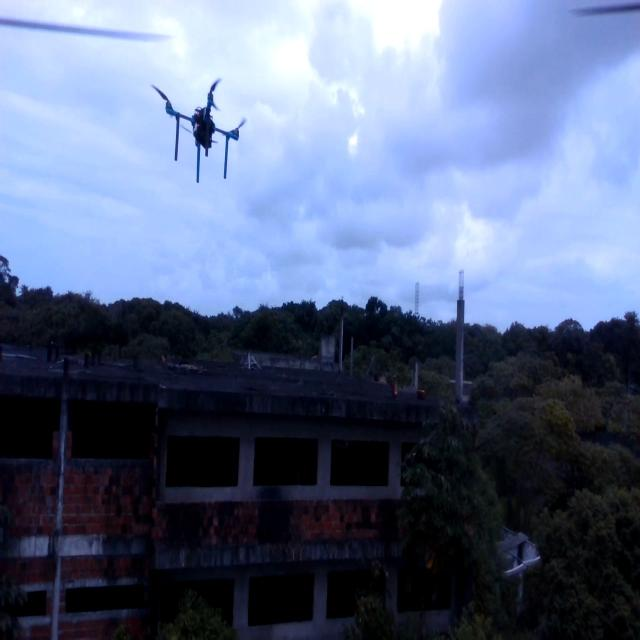-uav-: (148, 62, 252, 194)
